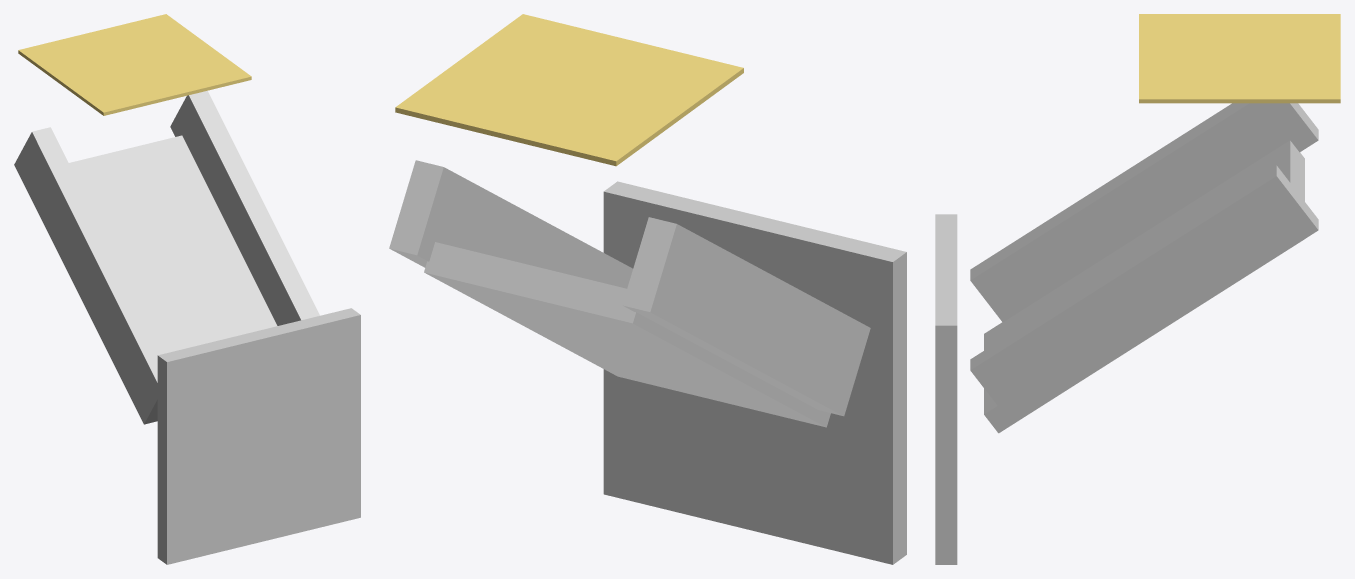
File: chute.glb
3 renders of one model, left to right at view 1: azimuth 30°, elevation 25°; view 2: azimuth 150°, elevation 25°; view 3: azimuth 270°, elevation 25°, orthographic. The views are drawn at different scales.
Parts seen in each view (by area): view 1: 出貨口內框, 出貨管道斜坡, 出貨管道左導流牆, 出貨洞, 出貨管道右導流牆; view 2: 出貨口內框, 出貨洞, 出貨管道左導流牆, 出貨管道斜坡, 出貨管道右導流牆; view 3: 出貨管道右導流牆, 出貨管道左導流牆, 出貨洞, 出貨口內框, 出貨管道斜坡.
Part boxes in pixels (box(x1,y1,x2,y2)): 出貨口內框: box(157, 308, 360, 564); 出貨管道斜坡: box(69, 135, 277, 353); 出貨管道左導流牆: box(14, 127, 163, 424); 出貨洞: box(18, 14, 251, 115); 出貨管道右導流牆: box(170, 90, 319, 325); 出貨口內框: box(603, 181, 906, 564); 出貨洞: box(395, 14, 743, 166); 出貨管道左導流牆: box(622, 217, 870, 416); 出貨管道斜坡: box(424, 242, 830, 427); 出貨管道右導流牆: box(389, 160, 632, 288); 出貨管道右導流牆: box(970, 165, 1318, 424); 出貨管道左導流牆: box(970, 103, 1318, 322); 出貨洞: box(1139, 14, 1340, 103); 出貨口內框: box(935, 214, 957, 564); 出貨管道斜坡: box(984, 140, 1304, 433).
Size of the model in its own units: 0.72 by 1.36 by 1.1.
